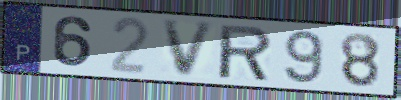2: (108, 16, 154, 76)
6: (52, 14, 95, 70)
8: (338, 32, 382, 90)
9: (280, 28, 327, 85)
R: (217, 23, 275, 84)
V: (161, 19, 219, 79)
